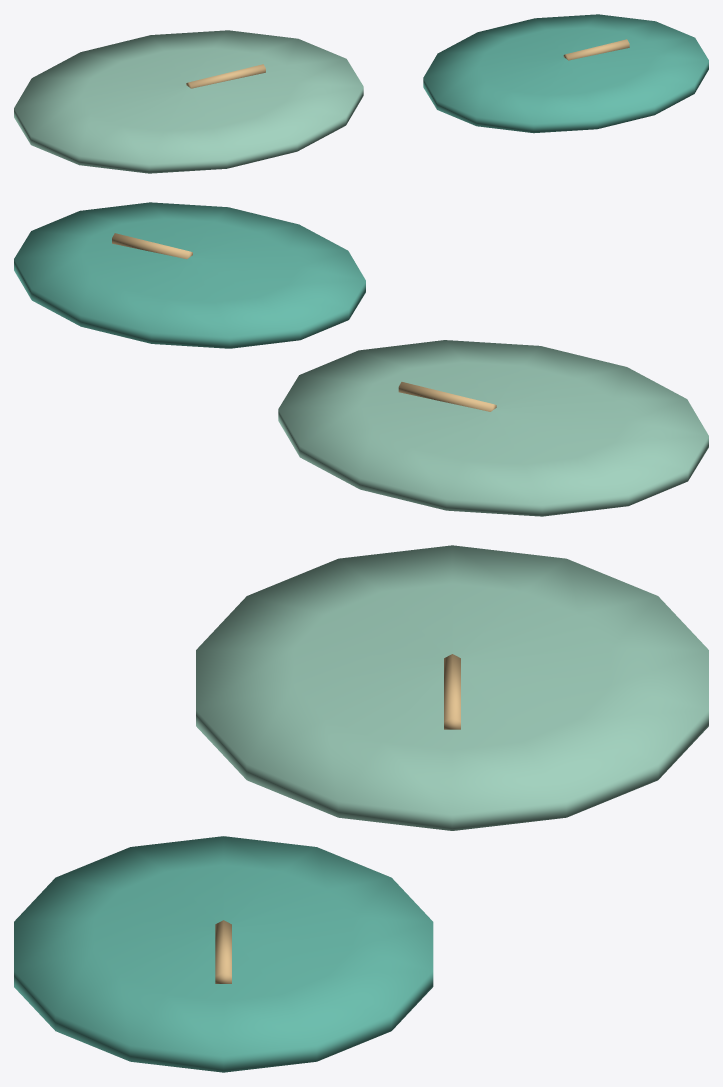
The model's file is pond_floating_pads.glb.
3 views of the same model, one above another, from view 1: azimuth 30°, elevation 25°; view 2: azimuth 150°, elevation 25°; view 3: azimuth 270°, elevation 25° (orthographic). The views are drawn at different scales.
Visible parts, largest first — view 1: POND_floating_pads_lilypad_1, POND_floating_pads_lilypad_0, POND_floating_pads_vein_1, POND_floating_pads_vein_0; view 2: POND_floating_pads_lilypad_1, POND_floating_pads_lilypad_0, POND_floating_pads_vein_1, POND_floating_pads_vein_0; view 3: POND_floating_pads_lilypad_1, POND_floating_pads_lilypad_0, POND_floating_pads_vein_1, POND_floating_pads_vein_0.
Part boxes in pixels (<box>): POND_floating_pads_lilypad_1: <box>14,30,363,173</box>; POND_floating_pads_lilypad_0: <box>423,14,708,133</box>; POND_floating_pads_vein_1: <box>186,64,265,88</box>; POND_floating_pads_vein_0: <box>563,39,629,60</box>; POND_floating_pads_lilypad_1: <box>278,340,708,516</box>; POND_floating_pads_lilypad_0: <box>14,202,365,348</box>; POND_floating_pads_vein_1: <box>398,382,496,411</box>; POND_floating_pads_vein_0: <box>112,233,192,259</box>; POND_floating_pads_lilypad_1: <box>196,545,708,830</box>; POND_floating_pads_lilypad_0: <box>14,836,433,1072</box>; POND_floating_pads_vein_1: <box>444,654,460,729</box>; POND_floating_pads_vein_0: <box>215,920,231,983</box>.
Size of the model in its own units: 1.5 by 0.083 by 0.8623.
